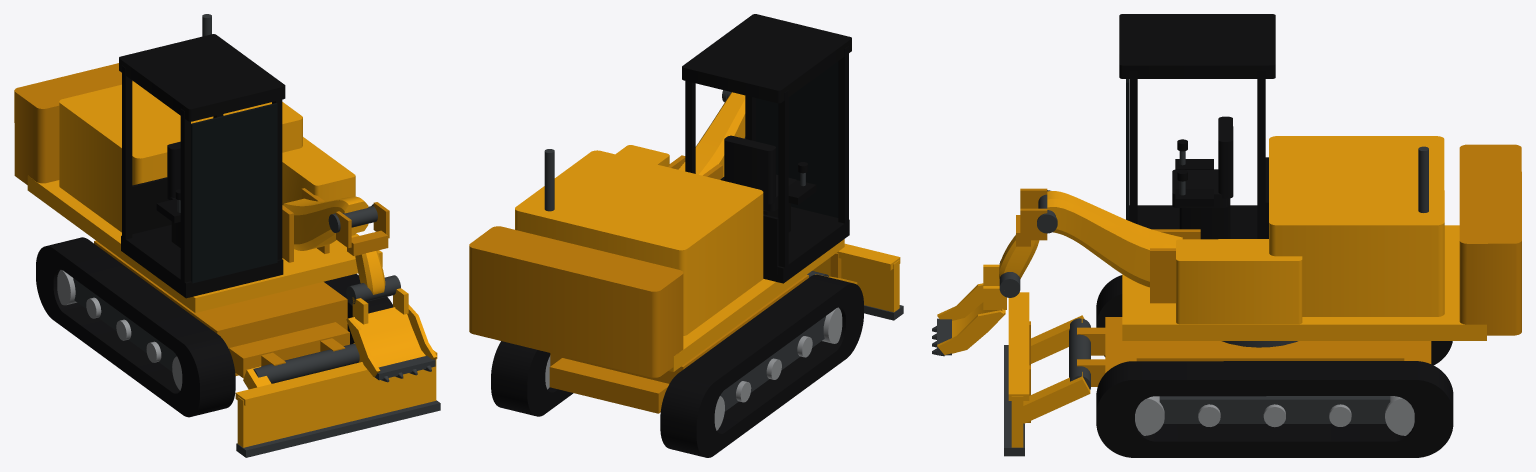
Rendered from excavator.glb.
The picture shows the model from 3 angles, left to right: view 1: azimuth 30°, elevation 25°; view 2: azimuth 150°, elevation 25°; view 3: azimuth 270°, elevation 25°; orthographic projection. The views are drawn at different scales.
Parts seen in each view (by area): view 1: cab, upper_structure, track_left, blade, undercarriage, bucket, arm, boom, track_right; view 2: upper_structure, cab, track_left, undercarriage, track_right, blade, boom; view 3: upper_structure, track_right, cab, undercarriage, blade, boom, bucket, arm, track_left.
Part boxes in pixels (x1,y1,x2,y2): cab: (119,34,285,298); upper_structure: (14,14,382,312); track_left: (36,237,235,417); blade: (235,343,440,457); undercarriage: (94,240,349,378); bucket: (346,275,436,382); arm: (328,202,389,294); boom: (283,196,368,250); track_right: (324,273,393,344); upper_structure: (469,145,844,377); cab: (682,14,851,283); track_left: (660,274,863,457); undercarriage: (549,274,808,413); track_right: (491,341,573,416); blade: (807,243,903,320); boom: (678,92,745,176); upper_structure: (1122,136,1521,340); track_right: (1096,361,1453,457); cab: (1119,14,1275,239); undercarriage: (1077,317,1431,386); blade: (1004,292,1090,456); boom: (1047,191,1182,287); bucket: (932,260,1020,356); arm: (999,188,1057,278); track_left: (1096,275,1452,365).
Bounding box in the file's own units: 1.7 × 2.5 × 3.96.
